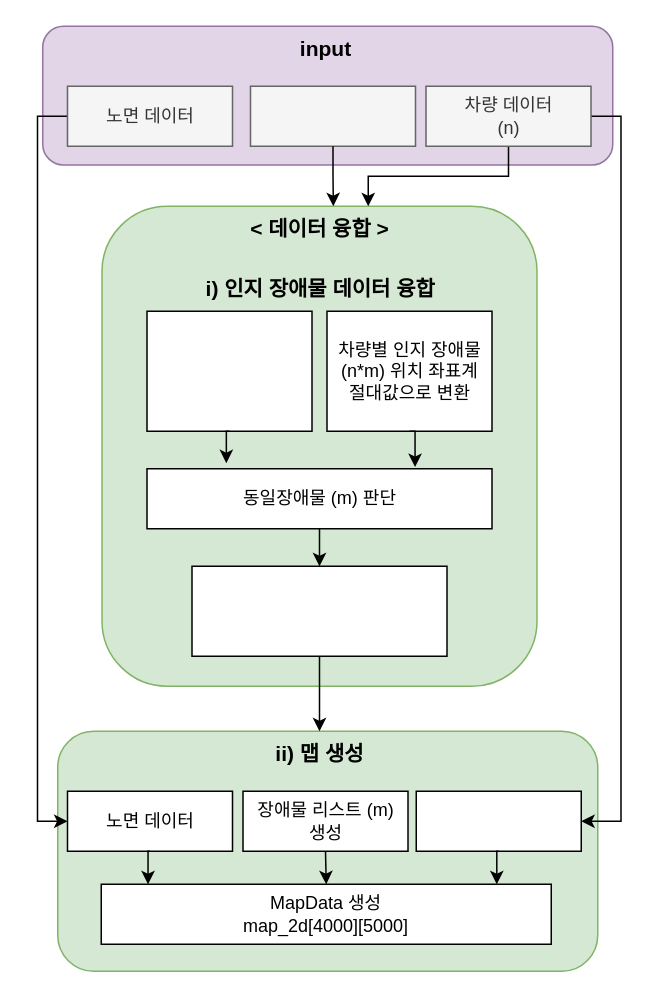
Some shapes in this 659 by 998 pixel diagram are drawn without their labels. The centre of each missing label's shape, as x and y in pixels:
엣지 처리시간 기준으로 시차만큼 장애물 위치 보정: the point at 318,610
장애물 데이터 (n*m): the point at 332,115
차량 리스트 (n) 생성: the point at 498,820
차량별 인지 장애물 (n*m) 속도 좌표계 절대값으로 변환: the point at 229,370
